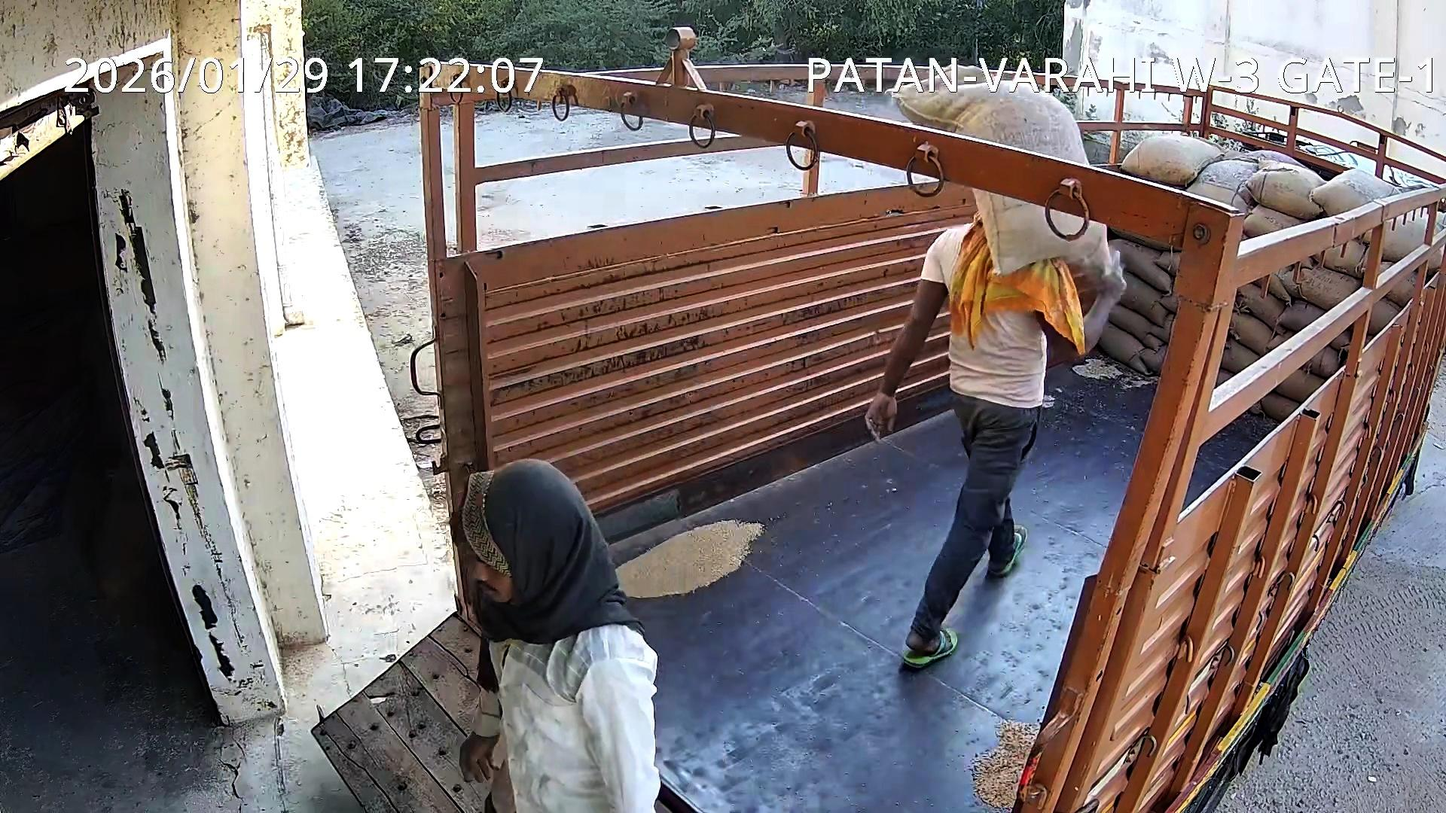Sack: (895, 66, 1088, 173), (971, 182, 1108, 273)
